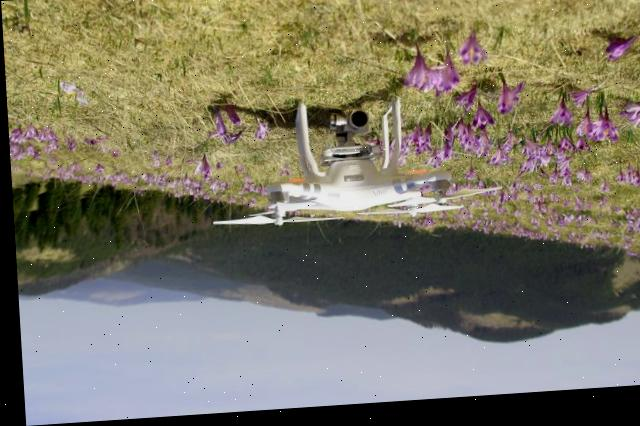drone: (198, 96, 499, 236)
